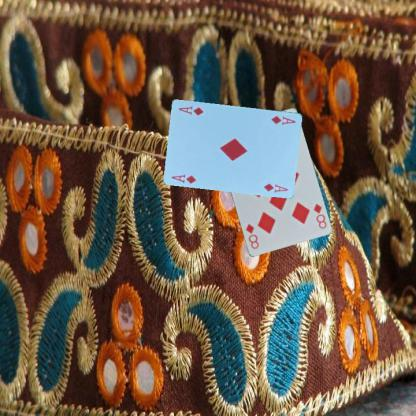8d: (310, 201, 328, 230)
Ad: (169, 171, 198, 185), (269, 113, 297, 126)
